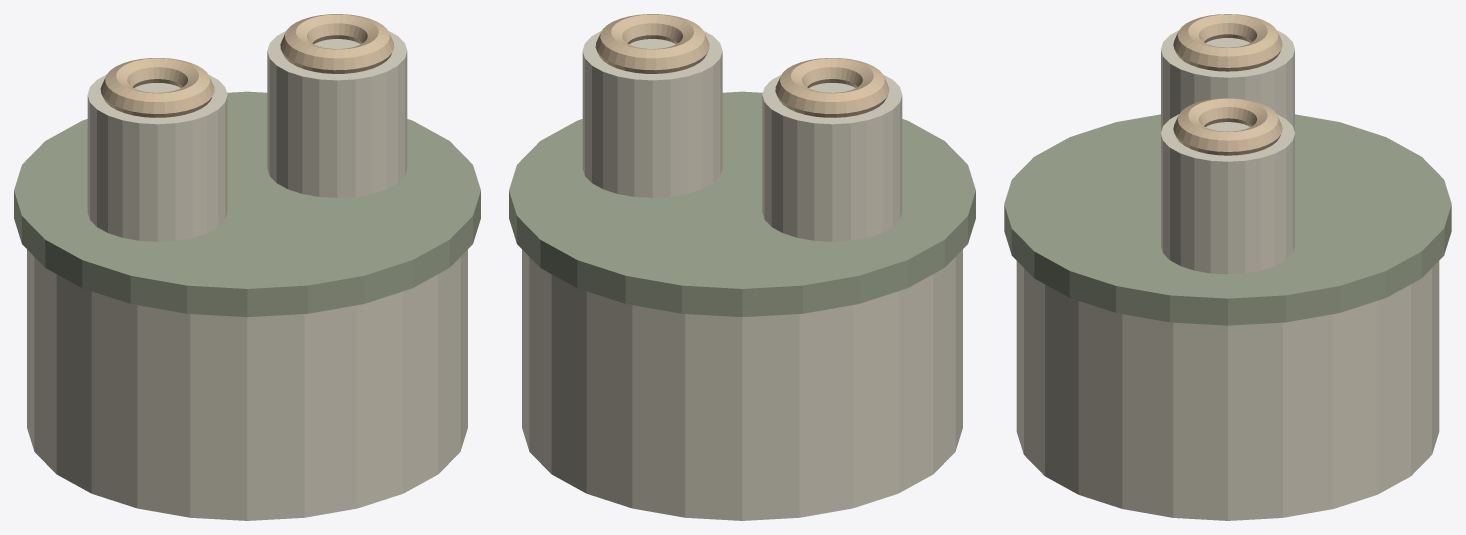
3 renders of one model, left to right at view 1: azimuth 30°, elevation 25°; view 2: azimuth 150°, elevation 25°; view 3: azimuth 270°, elevation 25°, orthographic. The views are drawn at different scales.
Visible parts, largest first — view 1: round bandage tin, removable lid, rolled gauze, rolled gauze.001, gauze spiral, gauze spiral.001; view 2: round bandage tin, removable lid, rolled gauze, rolled gauze.001, gauze spiral, gauze spiral.001; view 3: round bandage tin, removable lid, rolled gauze.001, rolled gauze, gauze spiral.001, gauze spiral.
Boxes of the visible parts, x1,y1,x2,y2 form: round bandage tin: [27, 249, 467, 520]; removable lid: [14, 91, 480, 317]; rolled gauze: [87, 74, 227, 241]; rolled gauze.001: [267, 30, 407, 197]; gauze spiral: [100, 58, 214, 117]; gauze spiral.001: [280, 14, 394, 73]; round bandage tin: [522, 249, 962, 520]; removable lid: [509, 91, 975, 317]; rolled gauze: [762, 74, 902, 241]; rolled gauze.001: [582, 30, 722, 197]; gauze spiral: [775, 58, 889, 117]; gauze spiral.001: [595, 14, 709, 73]; round bandage tin: [1016, 261, 1439, 520]; removable lid: [1004, 114, 1451, 325]; rolled gauze.001: [1161, 114, 1294, 274]; rolled gauze: [1161, 30, 1294, 131]; gauze spiral.001: [1173, 98, 1282, 155]; gauze spiral: [1173, 14, 1282, 71].
Size of the model in its own units: 0.18 by 0.159 by 0.18.
